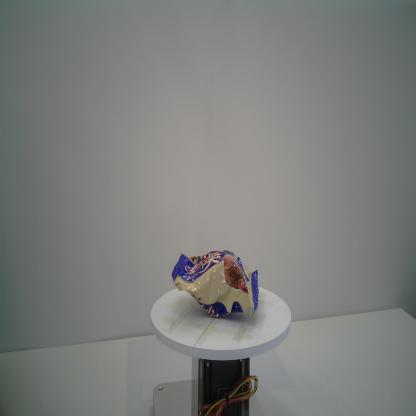Dessert: (170, 247, 260, 320)
